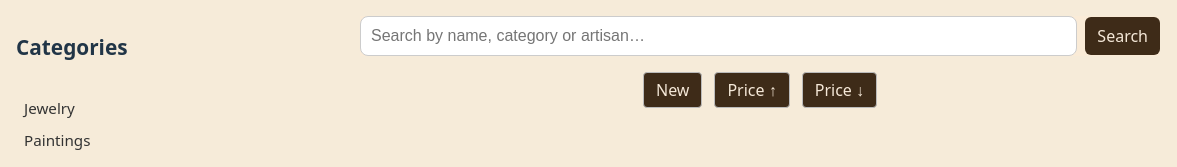
Test case: clicking a sidebar category fills the input search bar
The width and height of the screenshot is (1177, 167).
Click the button "Jewelry" at (120,108), box [16,92,224,124]
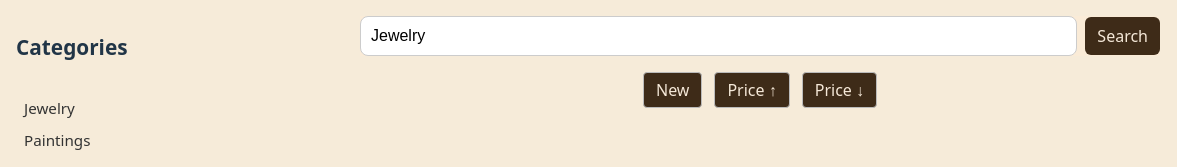
Check: the field with placeholder "Search by name, category or artisan…" holds "Jewelry", box [360,16,1077,56]
